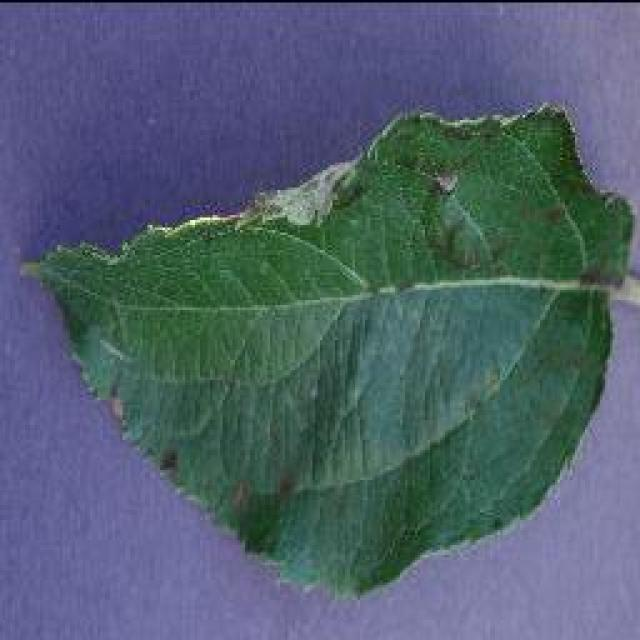apple scab disease: (20, 100, 638, 600)
